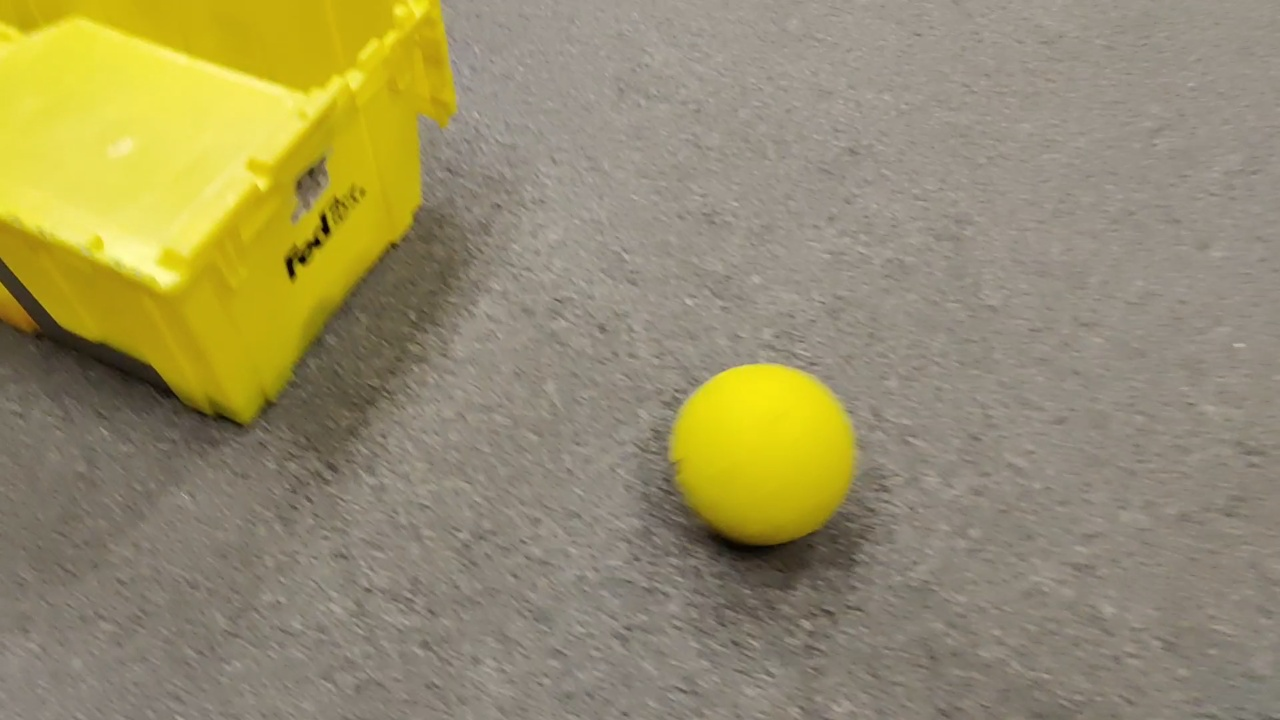Ball: (668, 361, 861, 546)
